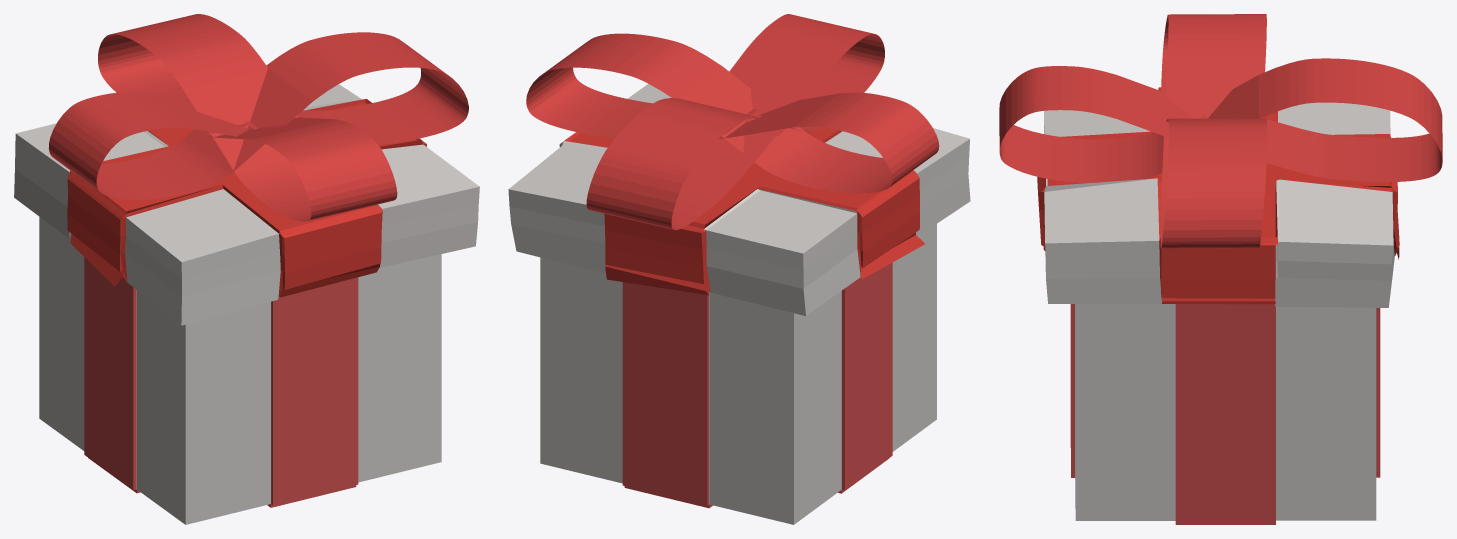
Rendered from gift_box.fbx.
3 renders of one model, left to right at view 1: azimuth 30°, elevation 25°; view 2: azimuth 150°, elevation 25°; view 3: azimuth 270°, elevation 25°, orthographic. The views are drawn at different scales.
Visible parts, largest first — view 1: Cube.001, Cube_1 Extrude_NURBS, Cube_1, Cube.000, Cube_1.001; view 2: Cube.001, Cube_1 Extrude_NURBS, Cube_1, Cube.000, Cube_1.001; view 3: Cube_1 Extrude_NURBS, Cube.001, Cube_1, Cube.000, Cube_1.001.
Boxes of the visible parts, <box> form: Cube.001: <box>39,217,441,524</box>; Cube_1 Extrude_NURBS: <box>48,14,468,221</box>; Cube_1: <box>14,84,479,325</box>; Cube.000: <box>84,257,358,507</box>; Cube_1.001: <box>67,98,426,298</box>; Cube.001: <box>540,224,936,524</box>; Cube_1 Extrude_NURBS: <box>526,14,939,230</box>; Cube_1: <box>508,84,970,315</box>; Cube.000: <box>622,262,892,508</box>; Cube_1.001: <box>560,127,924,295</box>; Cube_1 Extrude_NURBS: <box>999,14,1442,248</box>; Cube.001: <box>1075,303,1376,520</box>; Cube_1: <box>1044,102,1394,307</box>; Cube.000: <box>1070,304,1380,524</box>; Cube_1.001: <box>1037,87,1399,304</box>.
Size of the model in its own units: 168 by 159 by 168.
